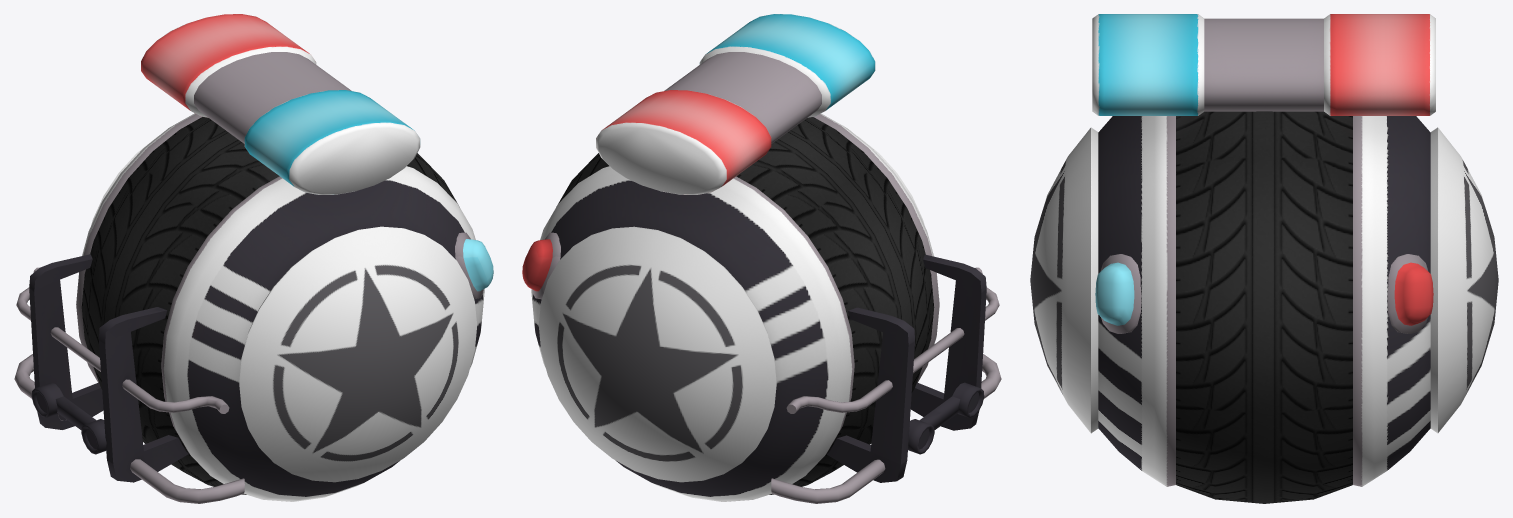
File: ball6 (2).fbx
3 views of the same model, side by side, from view 1: azimuth 30°, elevation 25°; view 2: azimuth 150°, elevation 25°; view 3: azimuth 270°, elevation 25° (orthographic). The views are drawn at different scales.
Visible parts, largest first — view 1: Sphere, Sphere.001; view 2: Sphere, Sphere.001; view 3: Sphere, Sphere.001.
Part boxes in pixels (bbox=[...]): Sphere: bbox=[14, 14, 493, 503]; Sphere.001: bbox=[81, 117, 457, 494]; Sphere: bbox=[522, 14, 1001, 503]; Sphere.001: bbox=[556, 117, 934, 494]; Sphere: bbox=[1030, 14, 1498, 486]; Sphere.001: bbox=[1176, 111, 1352, 503].
Size of the model in its own units: 225 by 224 by 209.
Materials: 1 (1 with a texture image).
